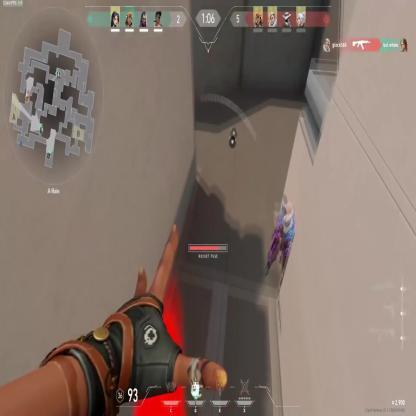enemy: (264, 195, 297, 293)
enemy_head: (284, 212, 292, 226)
